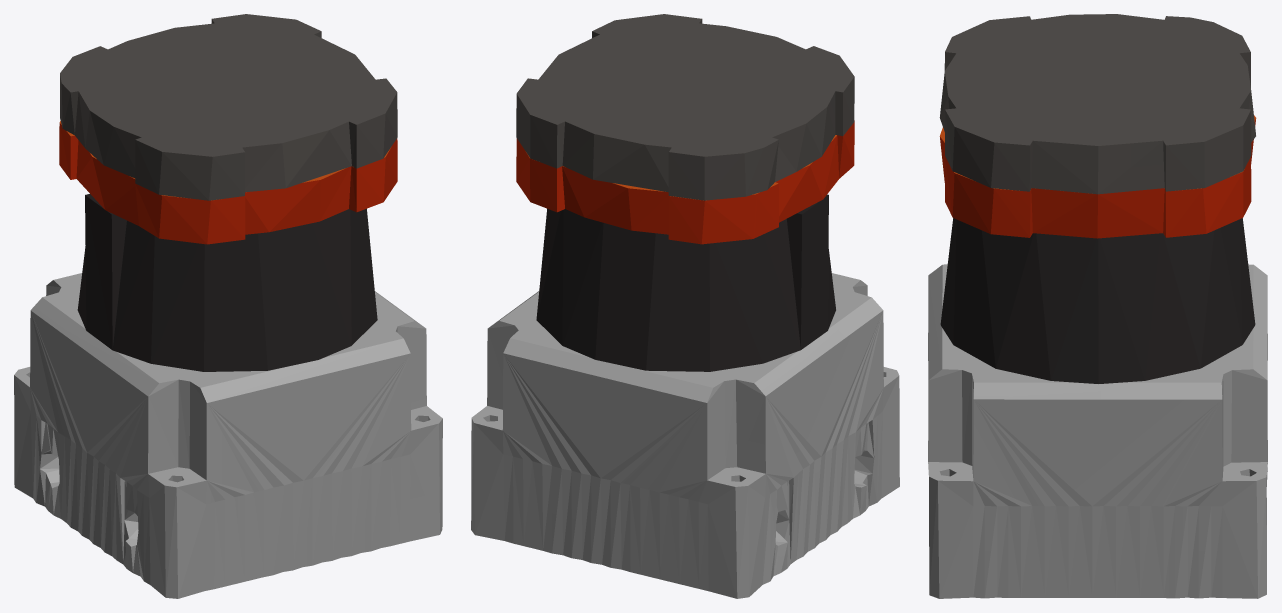
Rendered from Hokuyo_UTM_30LX.dae.
3 renders of one model, left to right at view 1: azimuth 30°, elevation 25°; view 2: azimuth 150°, elevation 25°; view 3: azimuth 270°, elevation 25°, orthographic. The views are drawn at different scales.
Parts seen in each view (by area): view 1: node; view 2: node; view 3: node.
Part boxes in pixels (bbox=[...]): node: bbox=[14, 14, 442, 598]; node: bbox=[471, 14, 899, 598]; node: bbox=[928, 14, 1267, 598].
Bounding box in the file's own units: 0.06 × 0.06 × 0.087.
